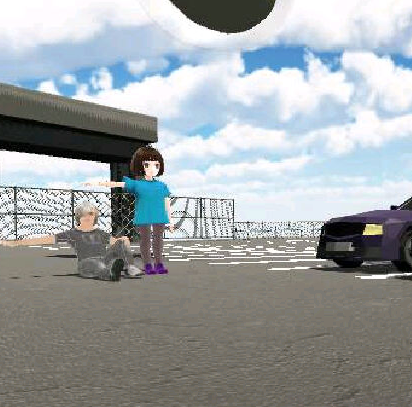doubleP_left: (1, 140, 170, 281)
